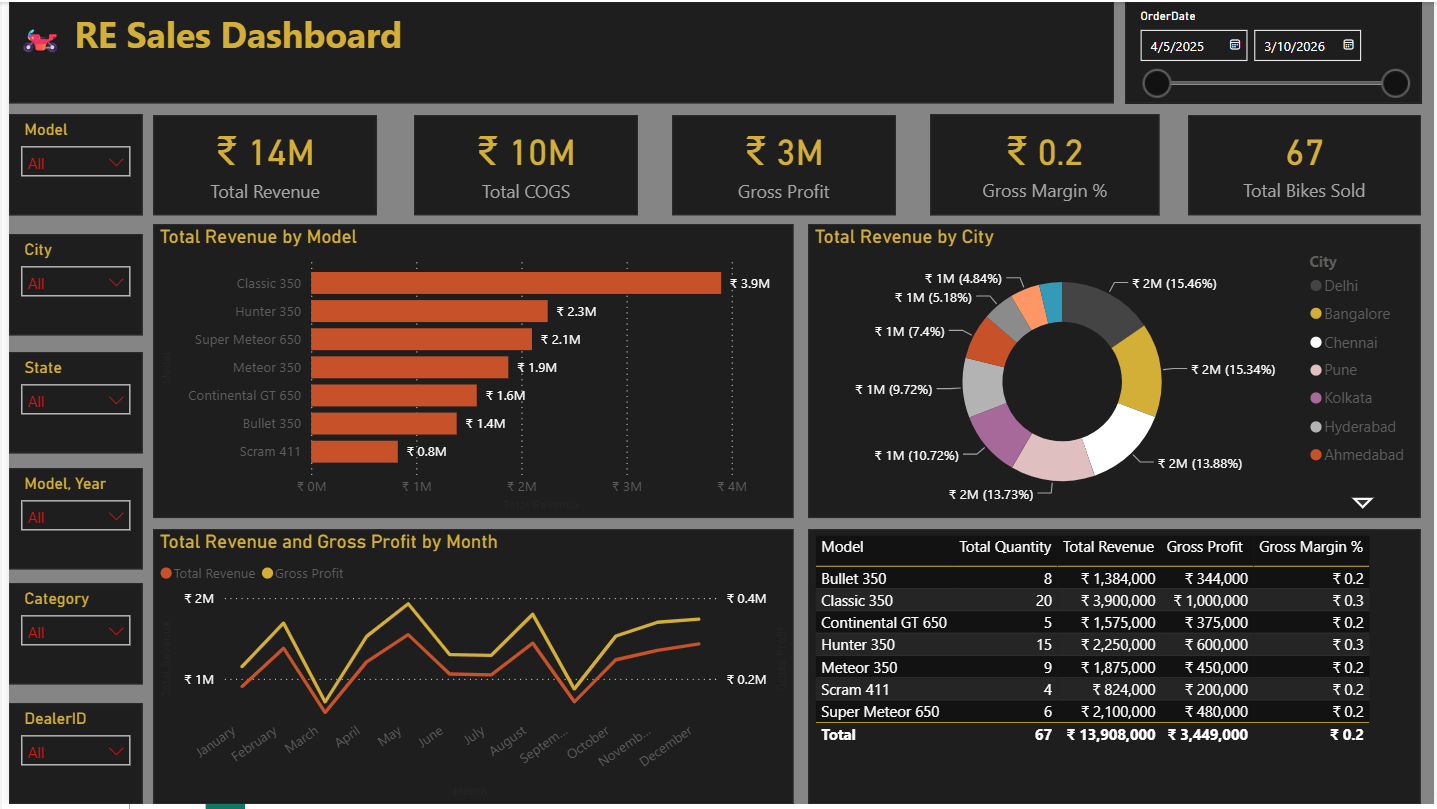

The page's visual inventory and layout, read from the dashboard file:
{"tool":"powerbi","page":{"name":"Page 1","canvas":[1280,720],"ordinal":0},"visuals":[{"type":"advanceCardE03760C5AB684758B56AA29F9E6C257B","fields":{"mainMeasure":["Measures table.Total Revenue"]},"box":[129.4,101.2,201.3,90.5],"z":0},{"type":"advanceCardE03760C5AB684758B56AA29F9E6C257B","fields":{"mainMeasure":["Measures table.Total COGS"]},"box":[363.8,101.2,201.3,90.5],"z":1000},{"type":"advanceCardE03760C5AB684758B56AA29F9E6C257B","fields":{"mainMeasure":["Measures table.Gross Profit"]},"box":[595.3,101.2,201.3,90.5],"z":2000},{"type":"advanceCardE03760C5AB684758B56AA29F9E6C257B","fields":{"mainMeasure":["Measures table.Gross Margin %"]},"box":[826.8,100.5,206.5,90.7],"z":3000},{"type":"advanceCardE03760C5AB684758B56AA29F9E6C257B","fields":{"mainMeasure":["Measures table.Total Bikes Sold"]},"box":[1058.5,101.4,209.2,89.8],"z":4000},{"type":"barChart","fields":{"Category":["BikeSales.Model"],"Y":["Measures table.Total Revenue"]},"box":[128.9,199.4,575,263.9],"z":5000},{"type":"donutChart","fields":{"Category":["BikeSales.City"],"Y":["Measures table.Total Revenue"]},"box":[717.3,199.3,550.3,263.9],"z":6000},{"type":"lineChart","fields":{"Y":["Measures table.Total Revenue"],"Category":["BikeSales.OrderDate.Variation.Date Hierarchy.Month"],"Y2":["Measures table.Gross Profit"]},"box":[128.9,473.3,575,246.7],"z":7000},{"type":"tableEx","fields":{"Values":["BikeSales.Model","Sum(BikeSales.Quantity)","Measures table.Total Revenue","Measures table.Gross Profit","Measures table.Gross Margin %"]},"box":[717.3,473.1,550.3,246.9],"z":8000},{"type":"slicer","fields":{"Values":["BikeSales.OrderDate"]},"box":[1001.9,0,265.7,90.7],"z":9000},{"type":"slicer","fields":{"Values":["BikeSales.Model"]},"box":[0,100.7,119.8,90.6],"z":10000},{"type":"slicer","fields":{"Values":["BikeSales.State"]},"box":[0,314.2,119.8,90.6],"z":11000},{"type":"slicer","fields":{"Values":["BikeSales.Model","BikeSales.Year"]},"box":[0,417.9,119.8,90.6],"z":12000},{"type":"slicer","fields":{"Values":["BikeSales.DealerID"]},"box":[0,629.4,119.8,90.6],"z":13000},{"type":"slicer","fields":{"Values":["BikeSales.Category"]},"box":[0,521.7,119.8,90.6],"z":14000},{"type":"slicer","fields":{"Values":["BikeSales.City"]},"box":[0,208.5,119.8,90.6],"z":15000},{"type":"textbox","box":[0,0,992,90.6],"z":16000}]}

Visuals, with their boxes in screenshot pixels (x1, y1, x2, y2), scaled from the page's 1280x720 canvas onto the 1437x809 screenshot:
advanceCardE03760C5AB684758B56AA29F9E6C257B - Measures table.Total Revenue: select_region(145, 114, 371, 215)
advanceCardE03760C5AB684758B56AA29F9E6C257B - Measures table.Total COGS: select_region(408, 114, 634, 215)
advanceCardE03760C5AB684758B56AA29F9E6C257B - Measures table.Gross Profit: select_region(668, 114, 894, 215)
advanceCardE03760C5AB684758B56AA29F9E6C257B - Measures table.Gross Margin %: select_region(928, 113, 1160, 215)
advanceCardE03760C5AB684758B56AA29F9E6C257B - Measures table.Total Bikes Sold: select_region(1188, 114, 1423, 215)
barChart - BikeSales.Model x Measures table.Total Revenue: select_region(145, 224, 790, 521)
donutChart - BikeSales.City x Measures table.Total Revenue: select_region(805, 224, 1423, 520)
lineChart - Measures table.Total Revenue x BikeSales.OrderDate.Variation.Date Hierarchy.Month: select_region(145, 532, 790, 808)
tableEx - BikeSales.Model x Sum(BikeSales.Quantity): select_region(805, 532, 1423, 808)
slicer - BikeSales.OrderDate: select_region(1125, 0, 1423, 102)
slicer - BikeSales.Model: select_region(0, 113, 134, 215)
slicer - BikeSales.State: select_region(0, 353, 134, 455)
slicer - BikeSales.Model x BikeSales.Year: select_region(0, 470, 134, 571)
slicer - BikeSales.DealerID: select_region(0, 707, 134, 808)
slicer - BikeSales.Category: select_region(0, 586, 134, 688)
slicer - BikeSales.City: select_region(0, 234, 134, 336)
textbox: select_region(0, 0, 1114, 102)
